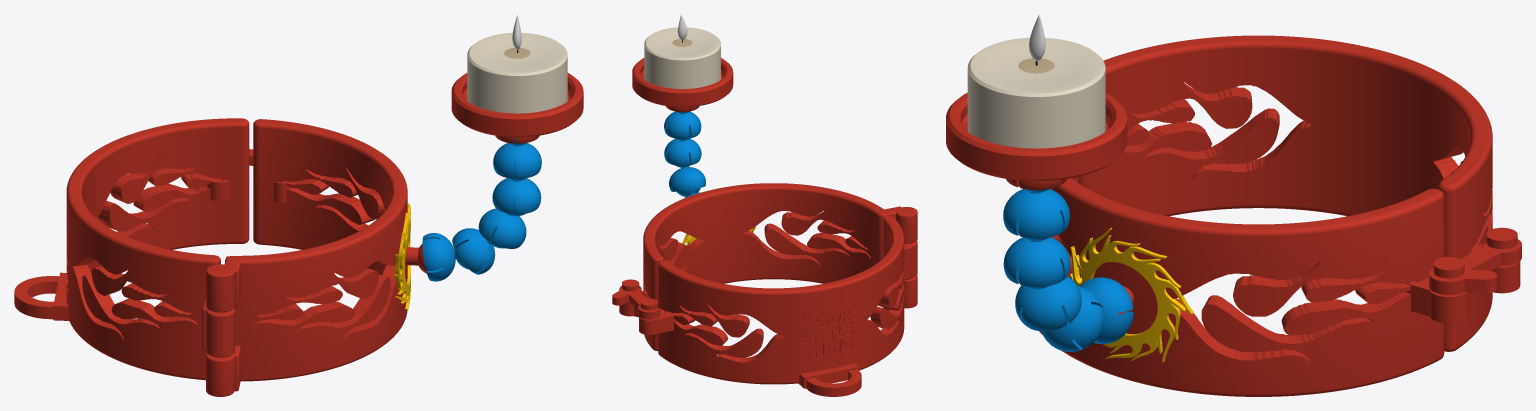
Rendered from flame-collar.glb.
The picture shows the model from 3 angles, left to right: view 1: azimuth 30°, elevation 25°; view 2: azimuth 150°, elevation 25°; view 3: azimuth 270°, elevation 25°; orthographic projection. The views are drawn at different scales.
Parts seen in each view (by area): view 1: flame-collar-part-010, flame-collar-part-009, flame-collar-part-011, flame-collar-part-007, flame-collar-part-002, flame-collar-part-003, flame-collar-part-001, flame-collar-part-004, flame-collar-part-005, flame-collar-part-006; view 2: flame-collar-part-010, flame-collar-part-009, flame-collar-part-011, flame-collar-part-007, flame-collar-part-001, flame-collar-part-002, flame-collar-part-003, flame-collar-part-008; view 3: flame-collar-part-010, flame-collar-part-009, flame-collar-part-011, flame-collar-part-007, flame-collar-part-006, flame-collar-part-002, flame-collar-part-001, flame-collar-part-003, flame-collar-part-008, flame-collar-part-004, flame-collar-part-005, flame-collar-part-014.
Boxes of the visible parts, x1,y1,x2,y2 form: flame-collar-part-010: (14,118,249,380); flame-collar-part-009: (206,119,426,396); flame-collar-part-011: (467,32,567,113); flame-collar-part-007: (451,73,583,143); flame-collar-part-002: (492,162,541,214); flame-collar-part-003: (478,197,526,248); flame-collar-part-001: (493,137,541,178); flame-collar-part-004: (452,227,504,274); flame-collar-part-005: (422,233,468,281); flame-collar-part-006: (394,203,410,309); flame-collar-part-010: (639,216,917,396); flame-collar-part-009: (619,183,917,350); flame-collar-part-011: (644,27,720,88); flame-collar-part-007: (632,58,733,112); flame-collar-part-001: (664,110,701,138); flame-collar-part-002: (664,137,701,165); flame-collar-part-003: (669,164,705,191); flame-collar-part-008: (612,286,660,319); flame-collar-part-010: (1078,35,1520,351); flame-collar-part-009: (1039,176,1468,396); flame-collar-part-011: (967,37,1105,148); flame-collar-part-007: (946,92,1127,189); flame-collar-part-006: (1069,227,1193,362); flame-collar-part-002: (1003,237,1070,286); flame-collar-part-001: (1003,188,1069,238); flame-collar-part-003: (1015,276,1081,331); flame-collar-part-008: (1429,239,1521,294); flame-collar-part-004: (1041,286,1104,351); flame-collar-part-005: (1079,277,1133,343); flame-collar-part-014: (1029,14,1045,60).
Bounding box in the file's own units: 3 × 2.09 × 2.59.
